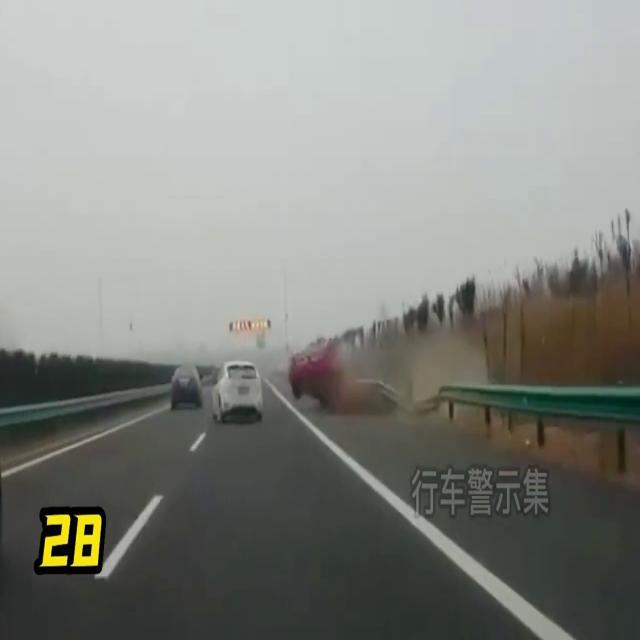normal: (158, 324, 321, 440)
single accident: (290, 278, 427, 425)
